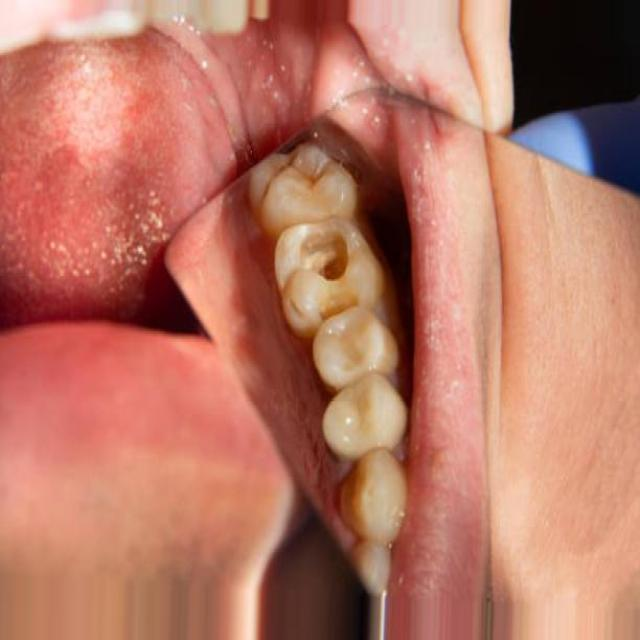caries: (277, 207, 363, 331)
